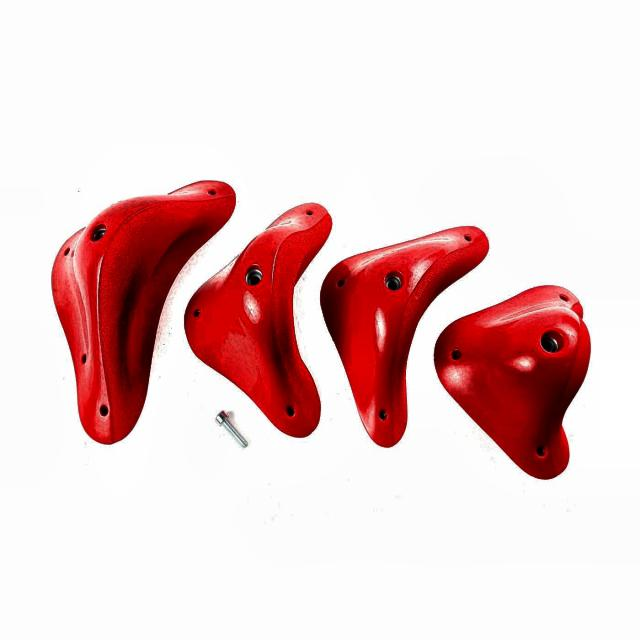Hold: (308, 212, 514, 486), (45, 176, 226, 450), (177, 198, 355, 451), (435, 288, 593, 482)
